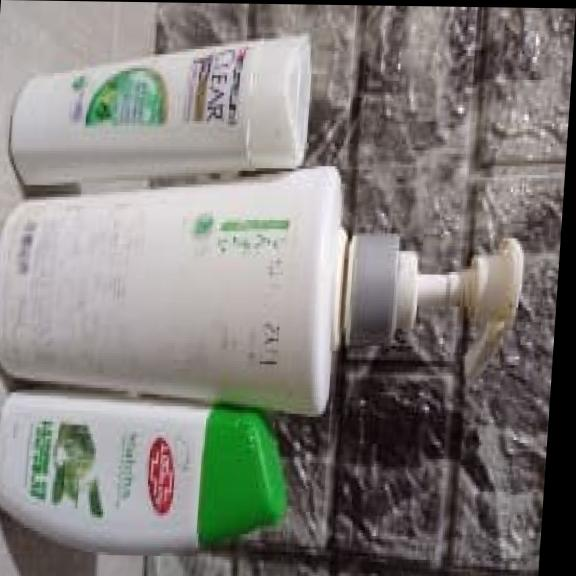Plastik: (0, 393, 284, 554), (9, 38, 308, 185)
